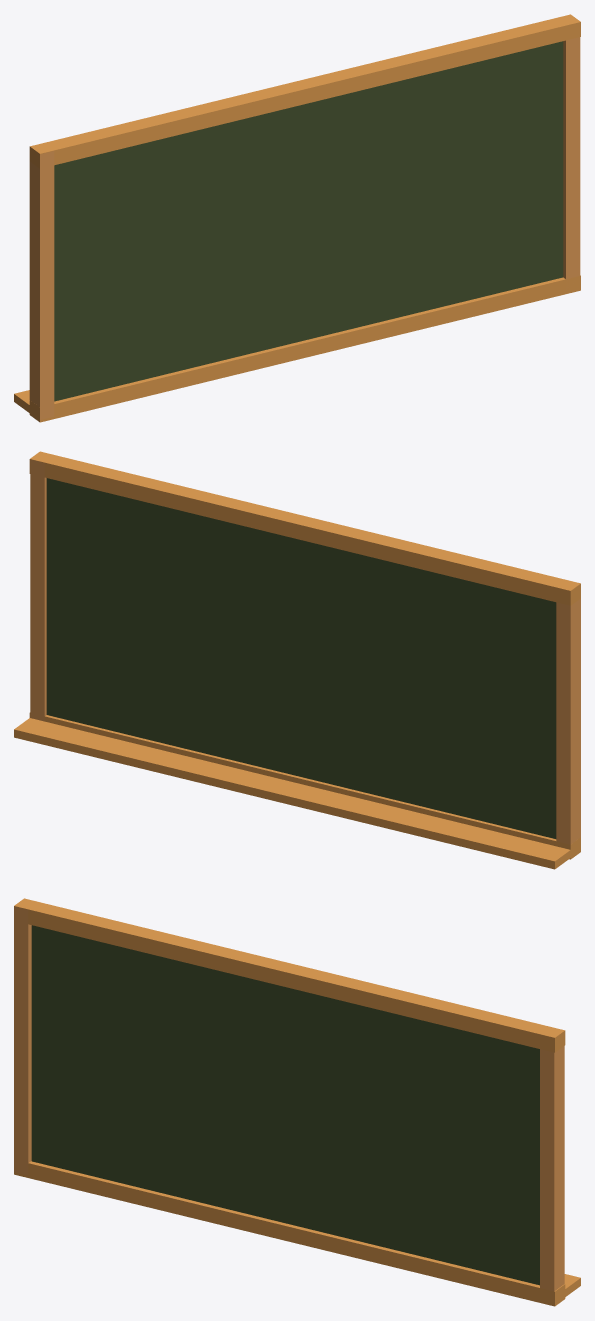
The model's file is board.fbx.
3 renders of one model, top to bottom at view 1: azimuth 30°, elevation 25°; view 2: azimuth 150°, elevation 25°; view 3: azimuth 330°, elevation 25°, orthographic.
Parts seen in each view (by area): view 1: Cube, Cube.003, Cube.004, Cube.002, Cube.001; view 2: Cube, Cube.003, Cube.005, Cube.002, Cube.001, Cube.004; view 3: Cube, Cube.003, Cube.004, Cube.001, Cube.002.
Part boxes in pixels (box(x1,y1,x2,y2)): Cube: box(54, 41, 563, 401); Cube.003: box(29, 14, 580, 168); Cube.004: box(29, 275, 580, 422); Cube.002: box(29, 151, 54, 419); Cube.001: box(563, 37, 580, 289); Cube: box(46, 478, 556, 838); Cube.003: box(29, 451, 580, 605); Cube.005: box(14, 718, 574, 869); Cube.002: box(556, 598, 580, 844); Cube.001: box(30, 459, 46, 721); Cube.004: box(29, 712, 580, 859); Cube: box(31, 925, 539, 1285); Cube.003: box(14, 898, 565, 1052); Cube.004: box(14, 1161, 565, 1306); Cube.001: box(540, 1046, 564, 1291); Cube.002: box(14, 906, 31, 1175).
Size of the model in its own units: 21862 by 10376 by 1824.
